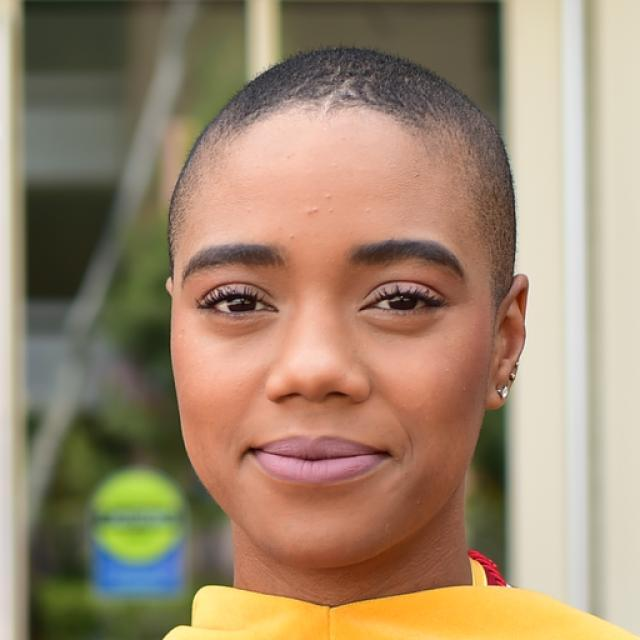happy: (169, 97, 490, 562)
